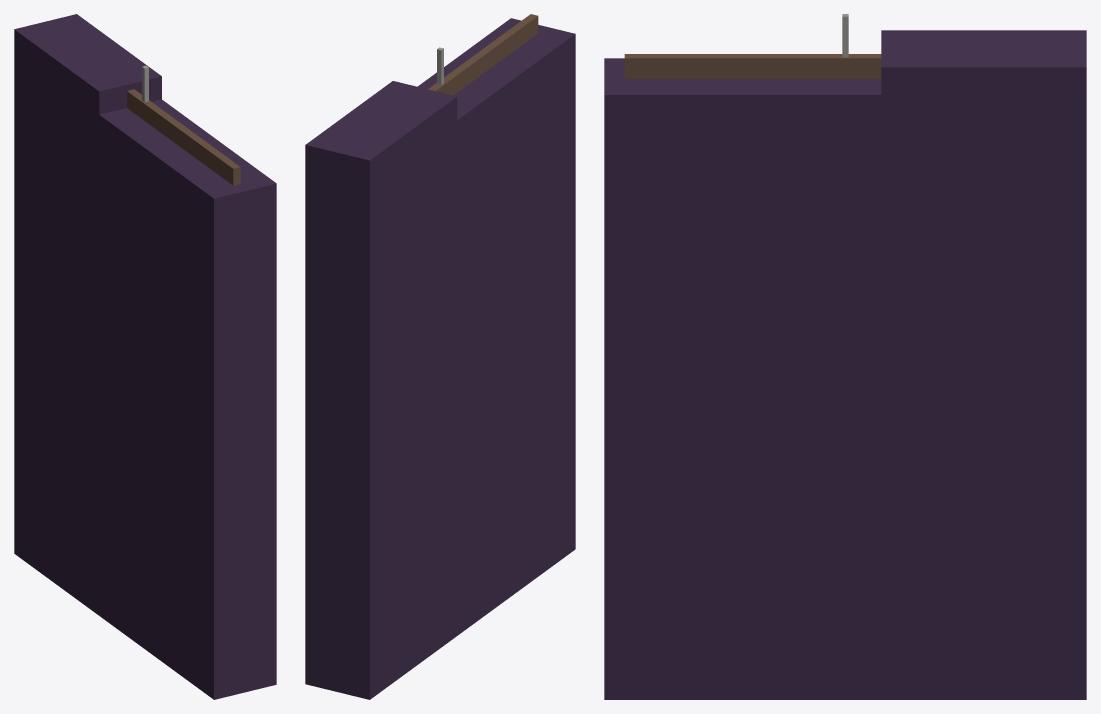
File: hoodie-purple-hung.glb
The picture shows the model from 3 angles, left to right: view 1: azimuth 30°, elevation 25°; view 2: azimuth 150°, elevation 25°; view 3: azimuth 270°, elevation 25°; orthographic projection. The views are drawn at different scales.
Visible parts, largest first — view 1: accent-purple, wood; view 2: accent-purple, wood; view 3: accent-purple, wood.
Part boxes in pixels (x1,y1,x2,y2): accent-purple: [14, 14, 276, 699]; wood: [127, 89, 240, 185]; accent-purple: [305, 18, 575, 699]; wood: [428, 14, 538, 95]; accent-purple: [604, 30, 1086, 699]; wood: [624, 54, 881, 78].
Bounding box in the file's own units: 0.085 × 0.716 × 0.47.
